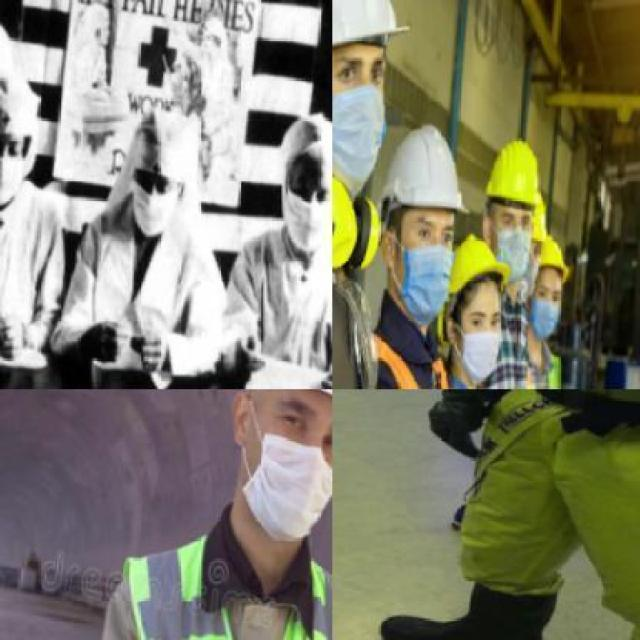Vest: (436, 390, 638, 638), (94, 506, 331, 639), (342, 309, 469, 388), (494, 343, 581, 388)
